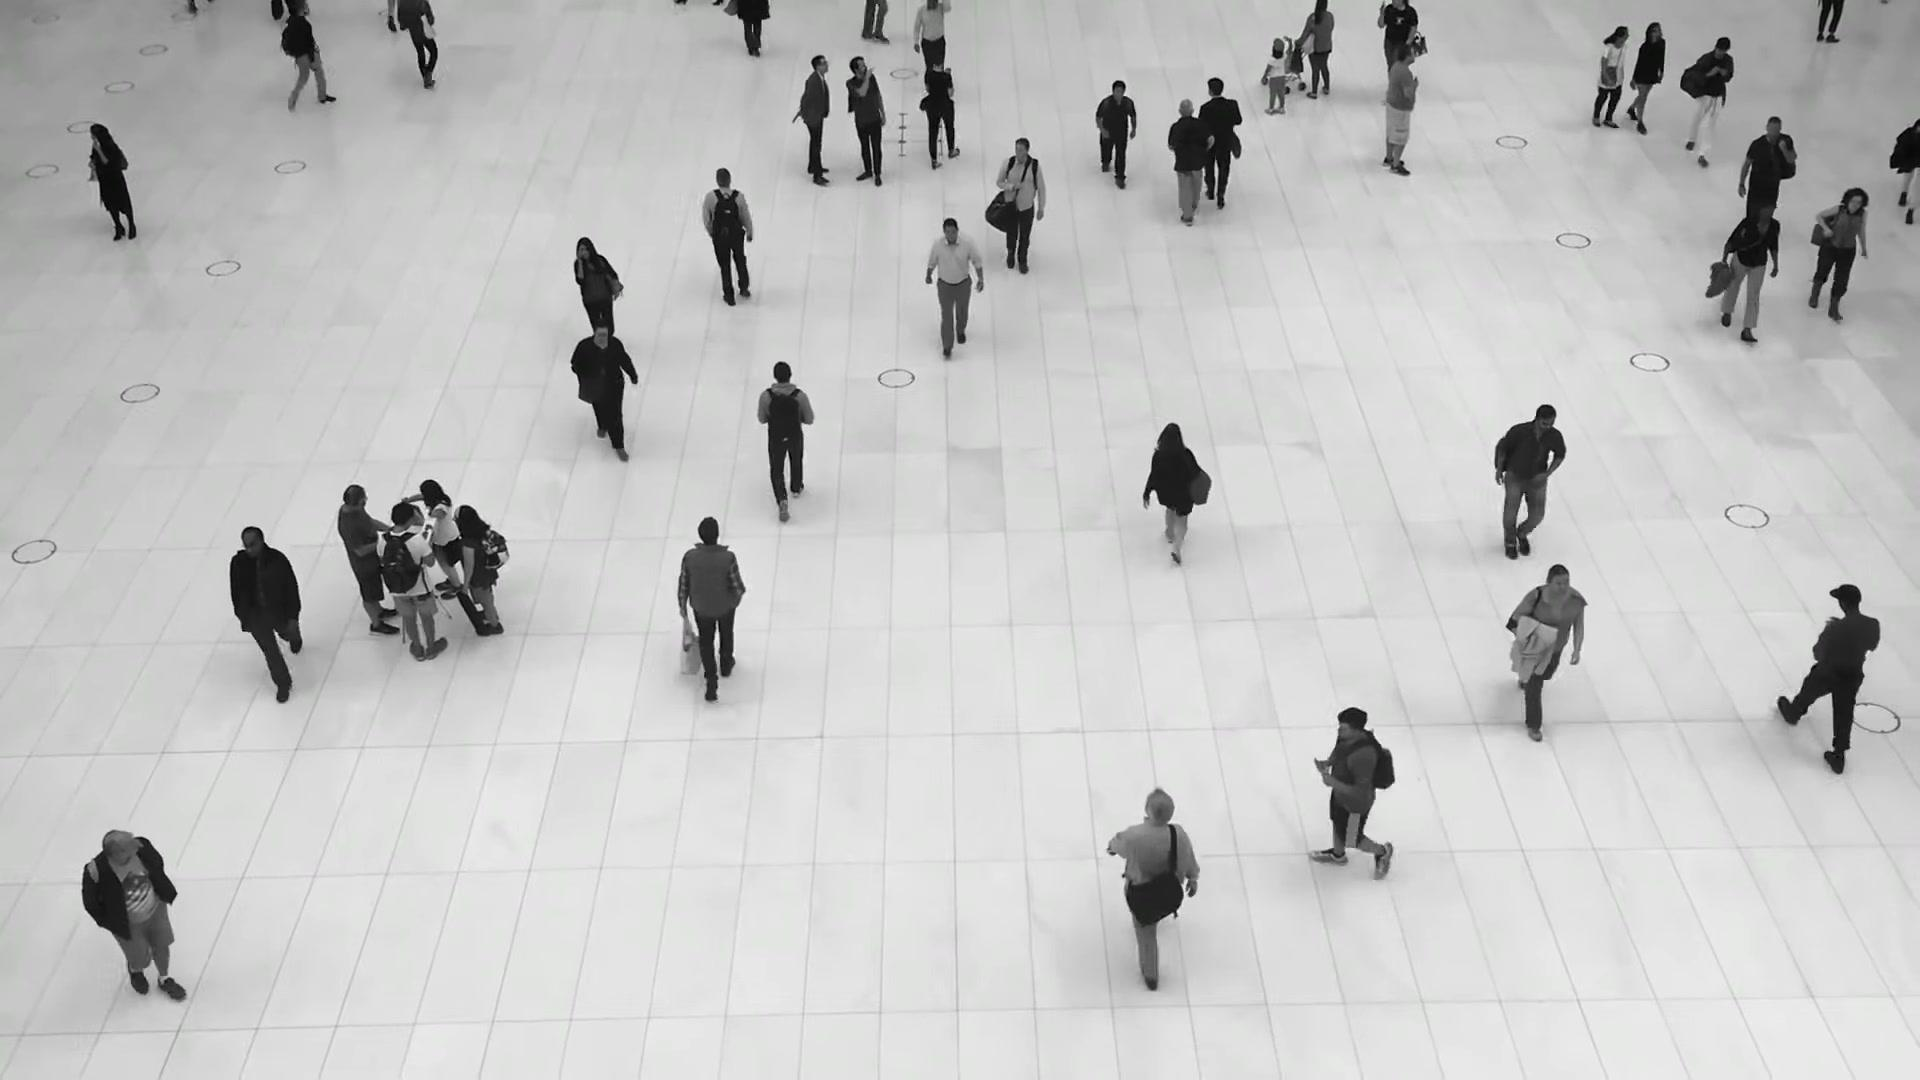person: (79, 829, 186, 1006), (1108, 787, 1198, 991), (1789, 584, 1882, 768), (1309, 708, 1402, 886), (1505, 561, 1586, 739), (229, 523, 304, 702), (675, 519, 745, 703), (1492, 403, 1566, 569), (377, 503, 448, 662), (1144, 425, 1211, 570), (337, 484, 400, 634), (1718, 199, 1781, 344), (571, 318, 637, 456), (756, 361, 813, 515), (1807, 190, 1869, 323), (925, 216, 984, 354), (700, 170, 755, 309), (1681, 34, 1735, 165), (454, 504, 506, 637), (995, 138, 1046, 278), (1737, 114, 1797, 220), (279, 1, 336, 111), (1198, 78, 1243, 210), (1167, 99, 1215, 225), (88, 123, 136, 242), (845, 56, 887, 187), (419, 480, 461, 600), (1382, 45, 1420, 177), (573, 236, 623, 333), (1094, 77, 1137, 187), (1626, 20, 1666, 133), (921, 52, 956, 170), (799, 54, 831, 187), (1591, 25, 1630, 133), (1297, 0, 1335, 100), (398, 0, 438, 90), (912, 0, 950, 80), (1378, 0, 1419, 62), (1262, 43, 1289, 115)
